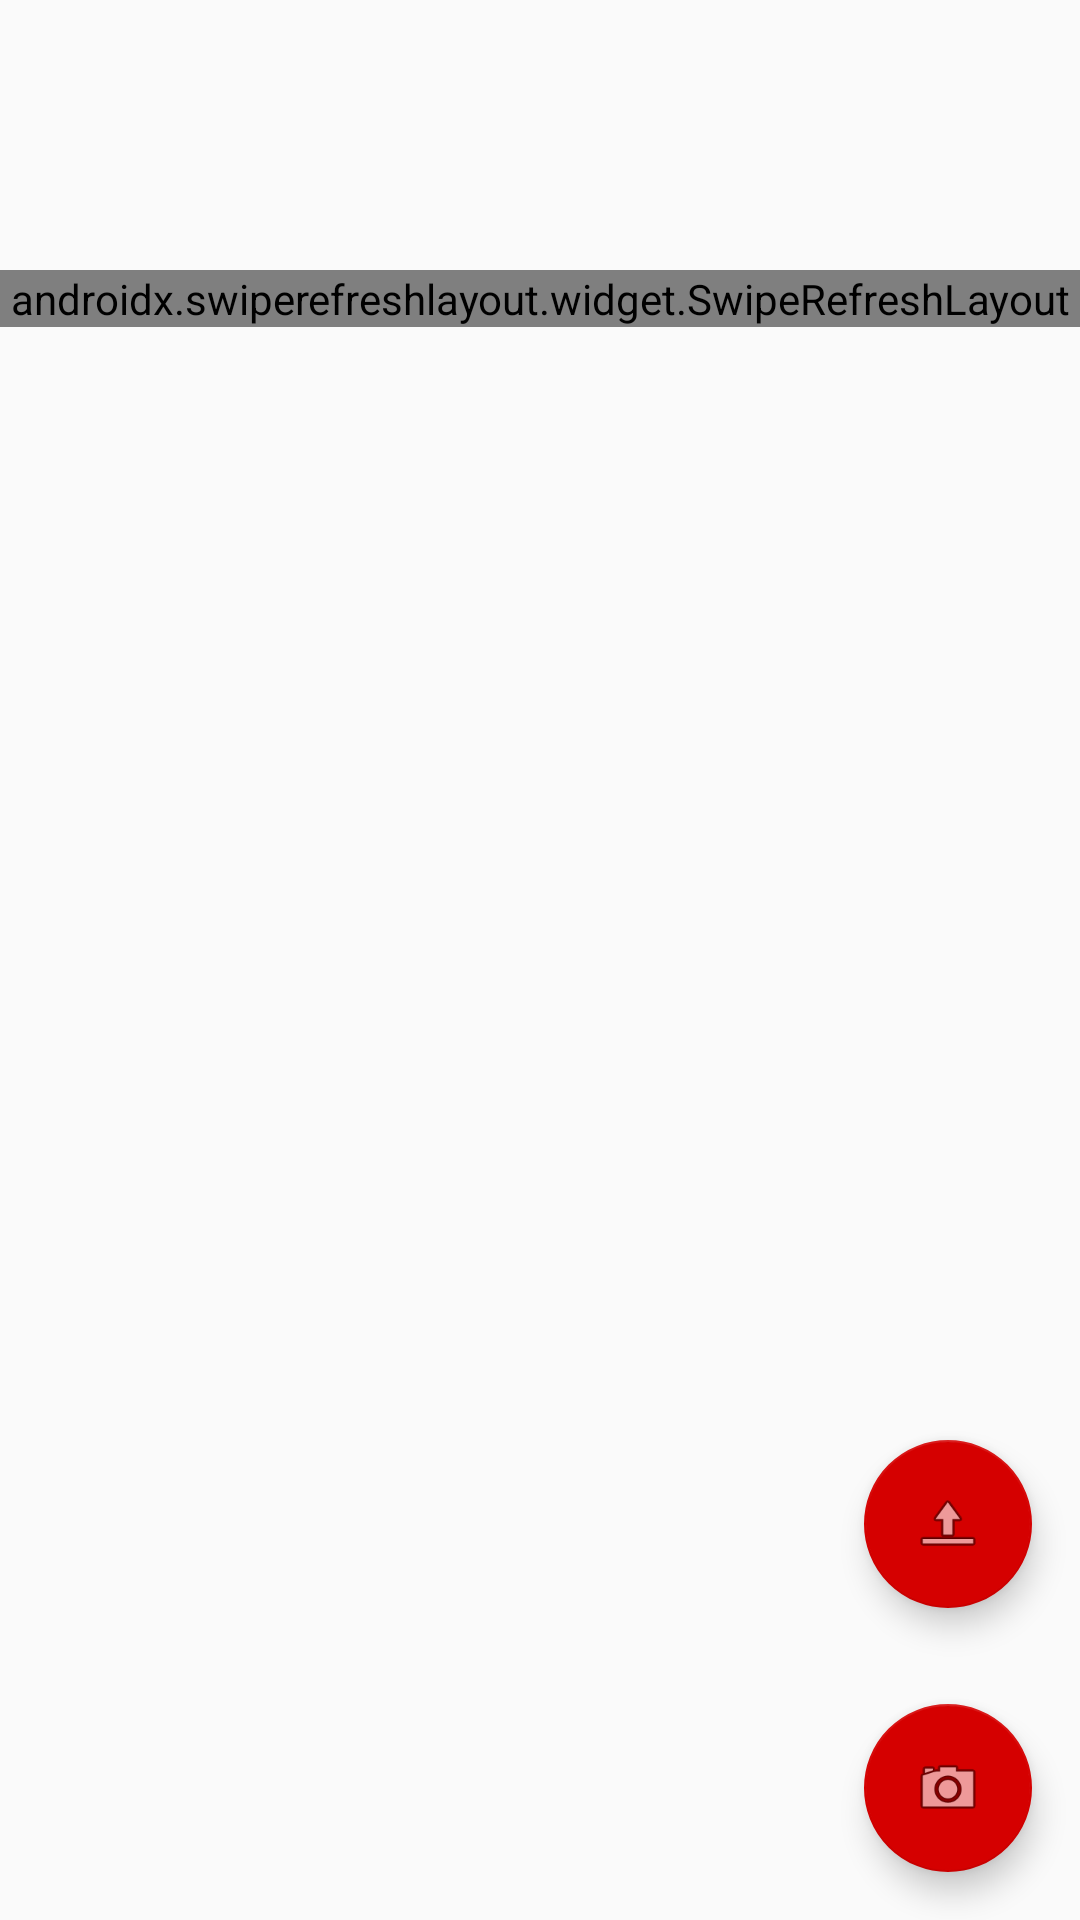

Where icons sit on this 1080 × 1920 app screen, as (x1, y1, x2, y2):
camera: (864, 1704, 1032, 1872)
upload you tube: (864, 1440, 1032, 1608)
